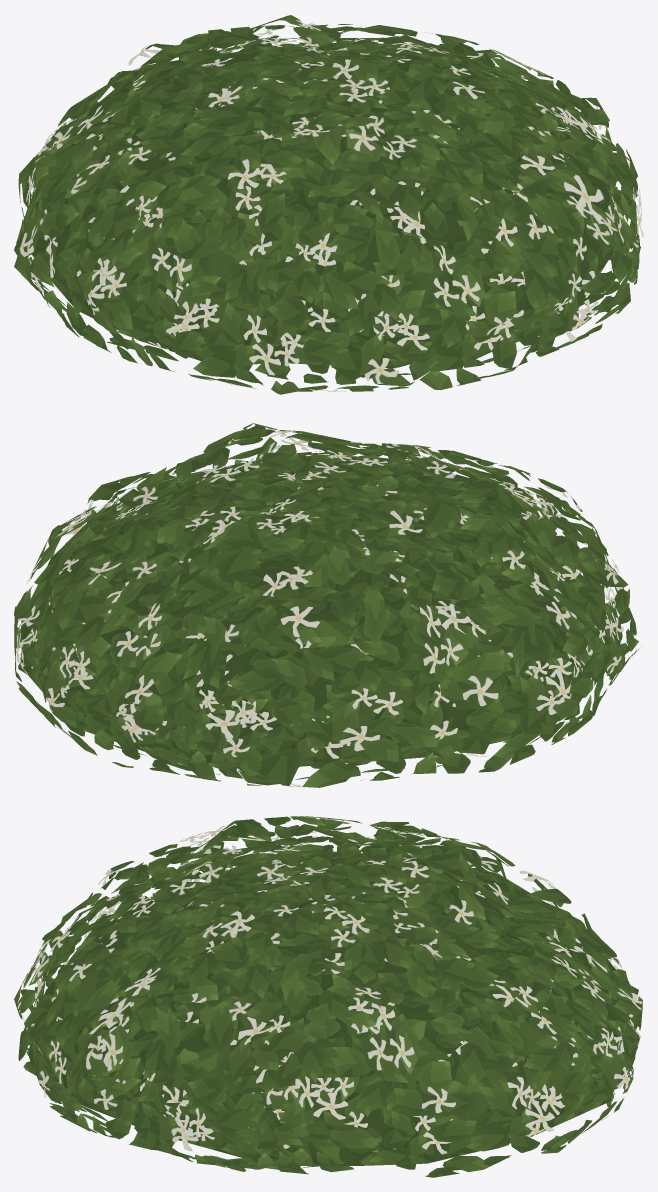
Rendered from SM_Env_Bush_01.fbx.
3 renders of one model, top to bottom at view 1: azimuth 30°, elevation 25°; view 2: azimuth 150°, elevation 25°; view 3: azimuth 270°, elevation 25°, orthographic. The views are drawn at different scales.
Parts seen in each view (by area): view 1: SM_Env_Bush_01_LOD0; view 2: SM_Env_Bush_01_LOD0; view 3: SM_Env_Bush_01_LOD0.
Part boxes in pixels (box(x1,y1,x2,y2)): SM_Env_Bush_01_LOD0: box(14, 15, 643, 394); SM_Env_Bush_01_LOD0: box(14, 423, 639, 787); SM_Env_Bush_01_LOD0: box(14, 816, 642, 1177).
Size of what is drawn, in the model's own units: 209 by 81.3 by 212.
